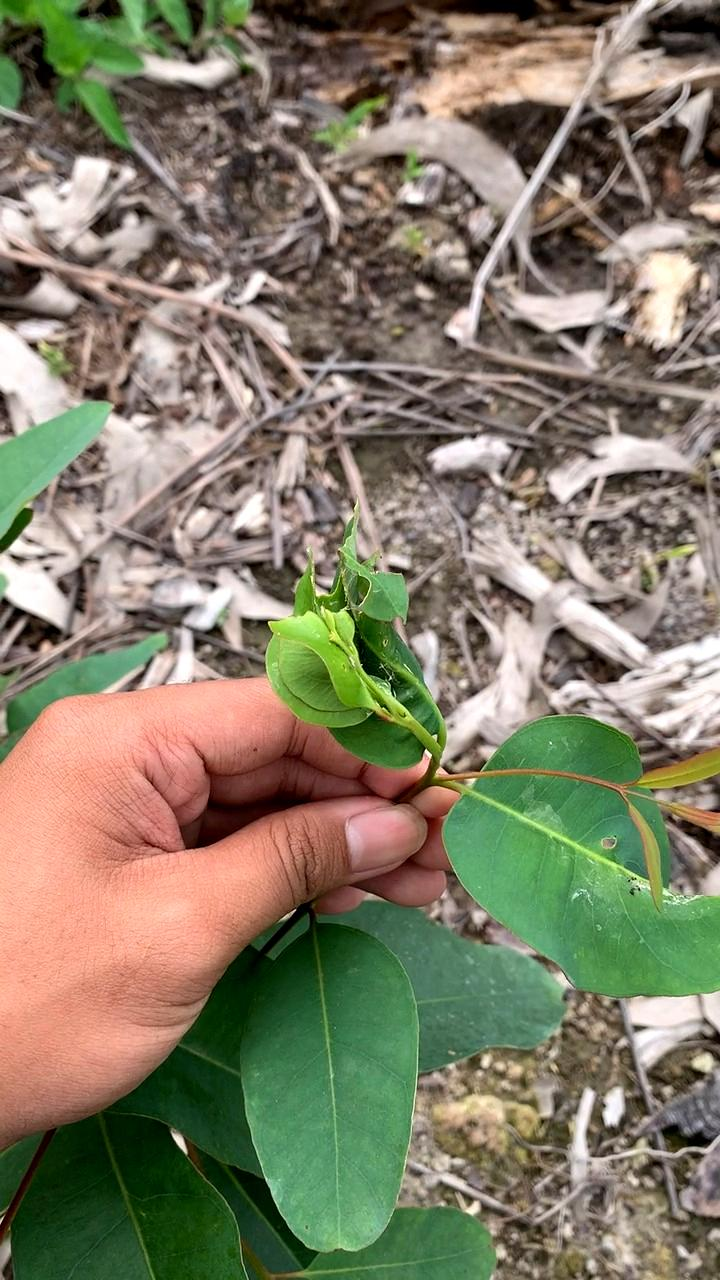Leaf Roller - Leaf: (276, 566, 465, 791)
